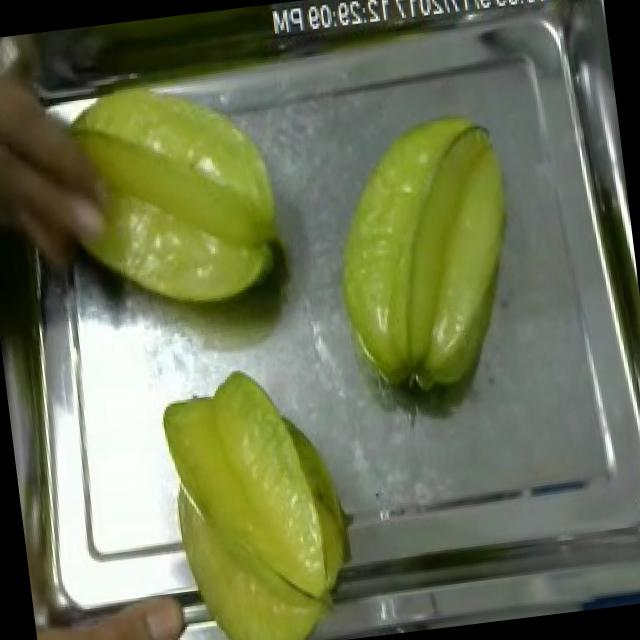fruit: (304, 94, 546, 417), (35, 58, 308, 336), (147, 351, 359, 640)
